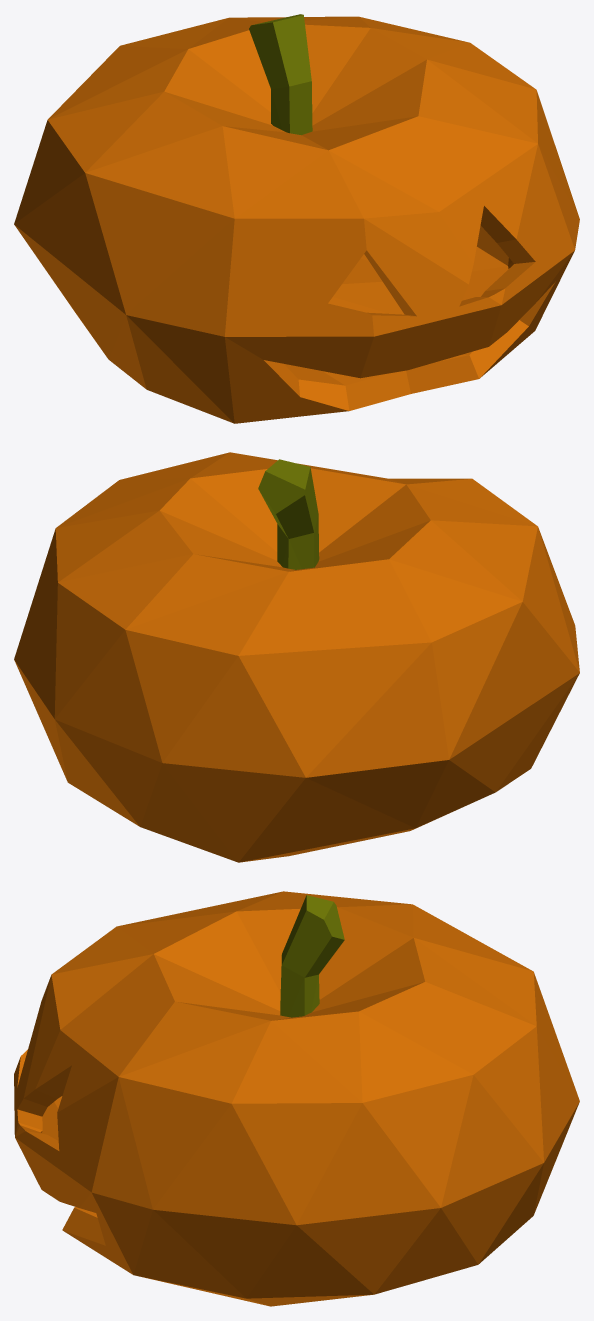
Rendered from LPHorror_CarvedPumpkin.fbx.
The picture shows the model from 3 angles, top to bottom: view 1: azimuth 30°, elevation 25°; view 2: azimuth 150°, elevation 25°; view 3: azimuth 270°, elevation 25°; orthographic projection.
Visible parts, largest first — view 1: CarvedPumpkin; view 2: CarvedPumpkin; view 3: CarvedPumpkin.
Boxes of the visible parts, left/top/right/bottom form: CarvedPumpkin: left=14, top=14, right=579, bottom=423; CarvedPumpkin: left=14, top=452, right=579, bottom=862; CarvedPumpkin: left=14, top=891, right=579, bottom=1306.
Size of the model in its own units: 69.95 by 48.48 by 72.07.
